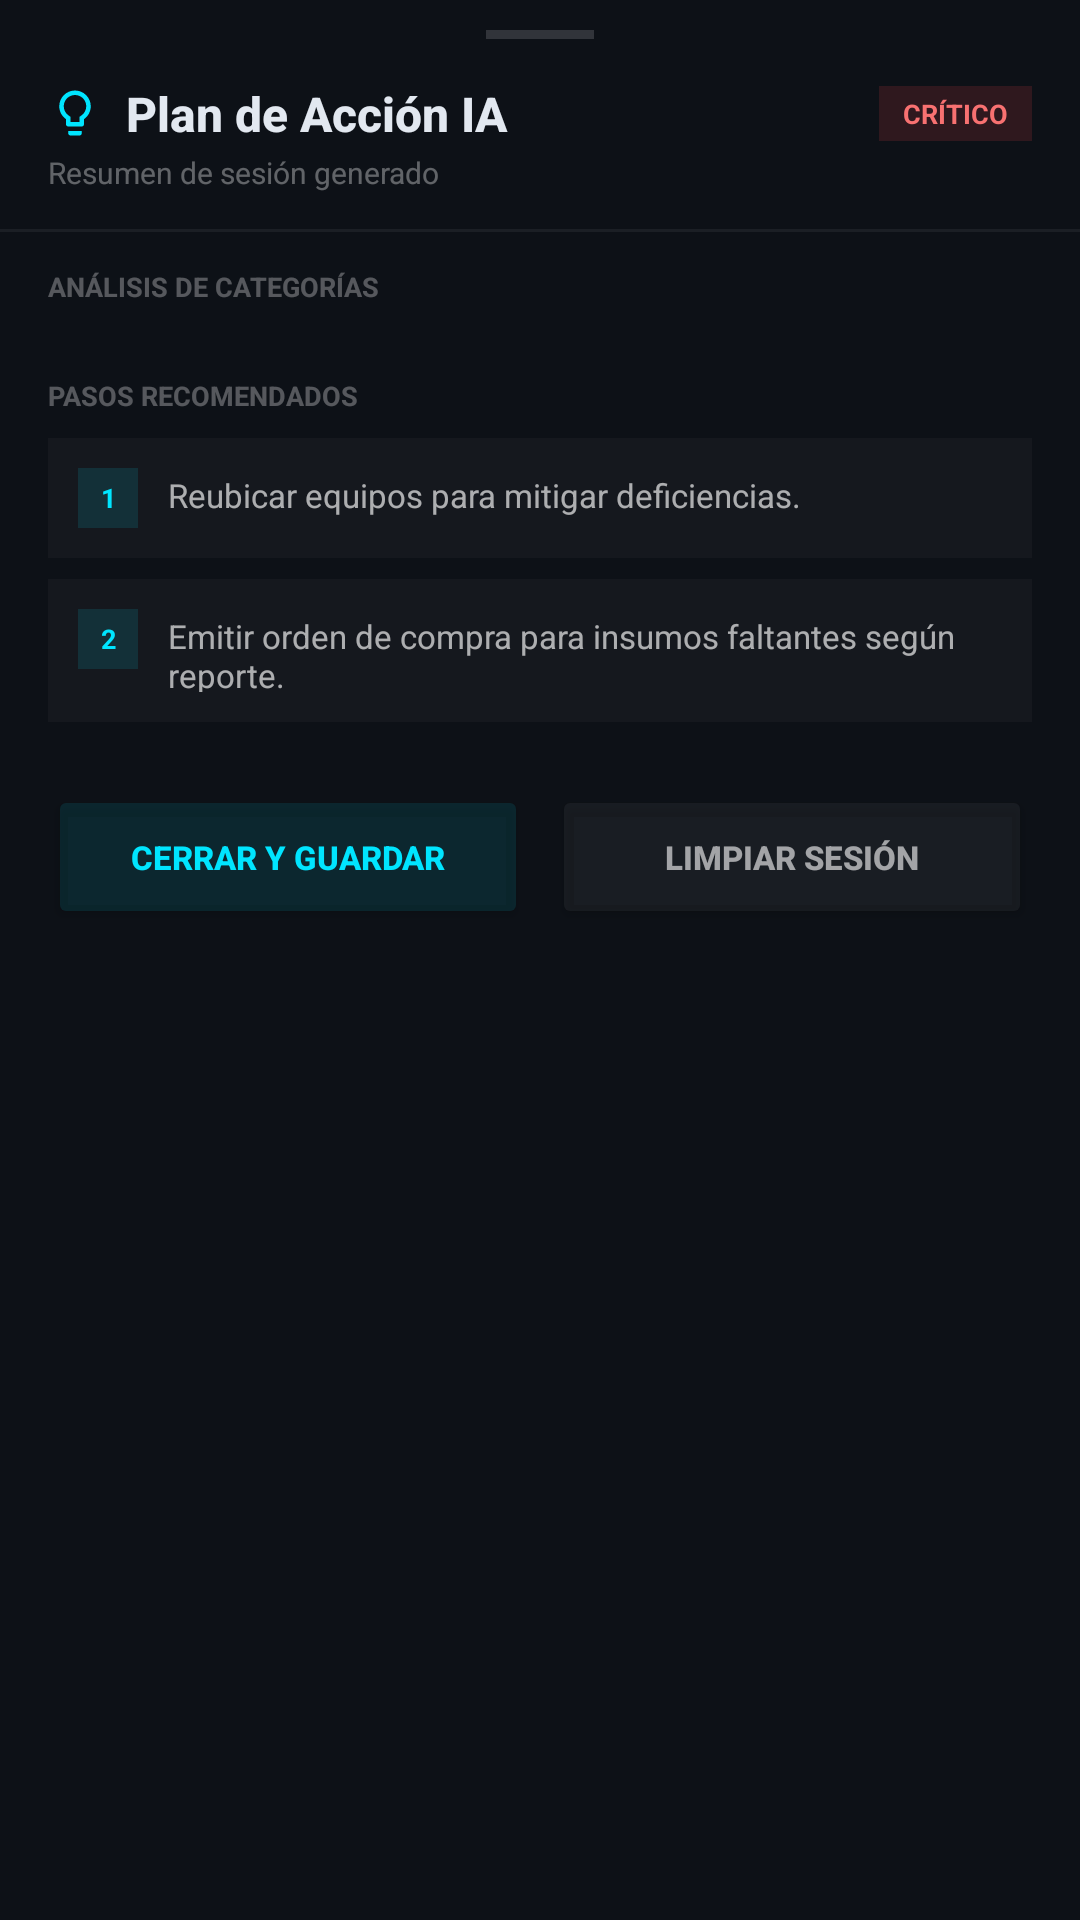

Where icons sit on this 1080×1920 app screen, as [x1=x1, y1=y1, x2=x2, y2=y2]:
bulb: [x1=59, y1=90, x2=91, y2=136]
